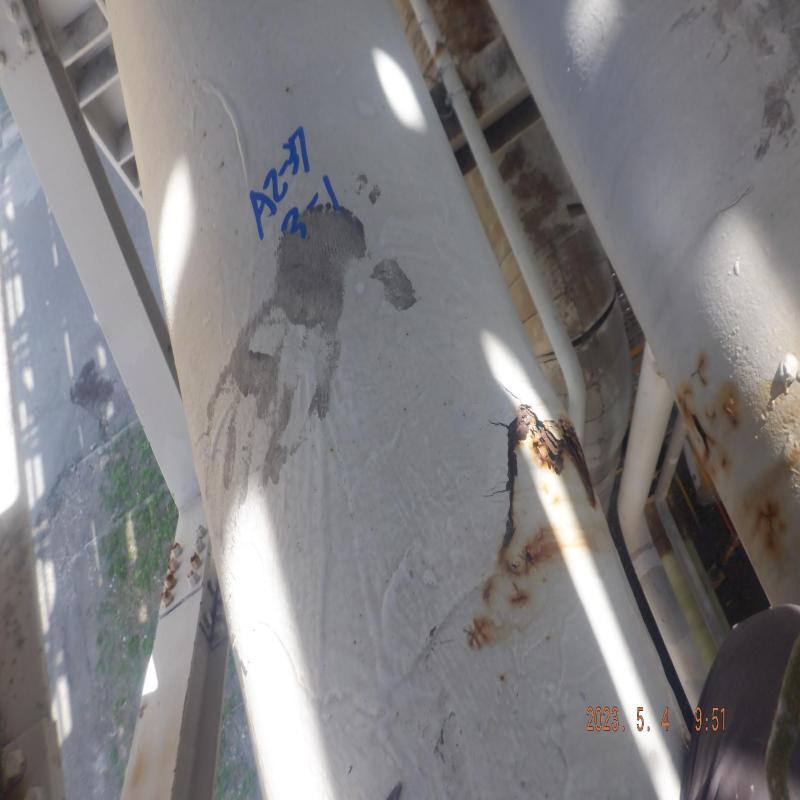corrosion: (502, 414, 604, 495), (726, 391, 741, 453)
